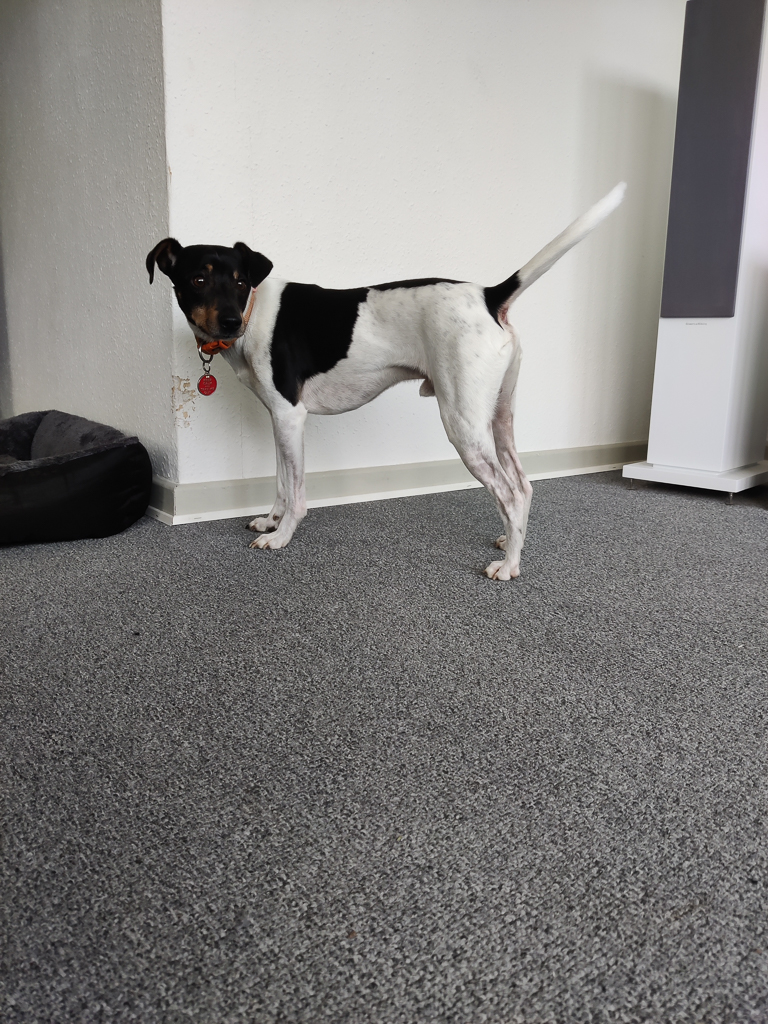Dog: (131, 165, 635, 595)
